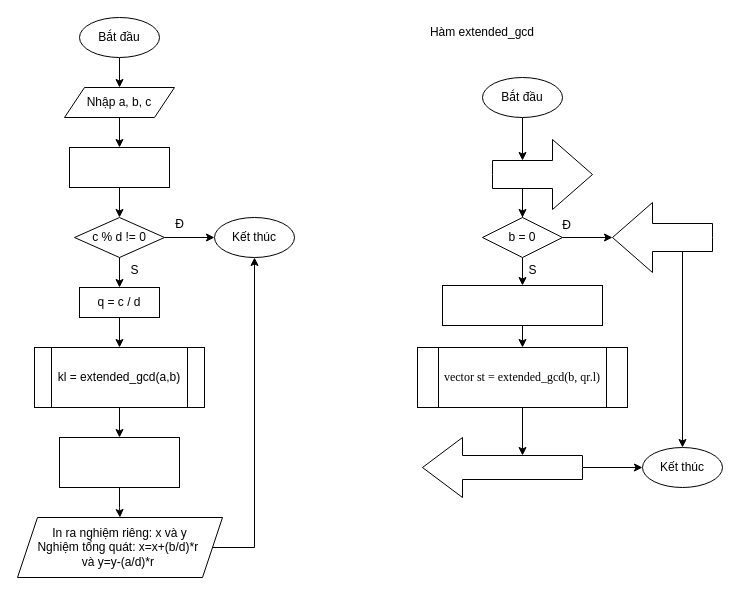
Image size: 740x595. Some labels were removed from this diagram. Each missing label, with the box of its shape:
a và b: (492, 138, 592, 210)
Tính d = gcd(a,b): (68, 146, 170, 188)
vector qr = vector(a / b, a % b): (442, 284, 602, 326)
vector(1, 0): (612, 202, 712, 272)
vector(st.l, st.k - qr.k * st.l): (422, 436, 582, 498)
x = q * kl.k; y = q * kl.l;: (58, 436, 180, 488)
